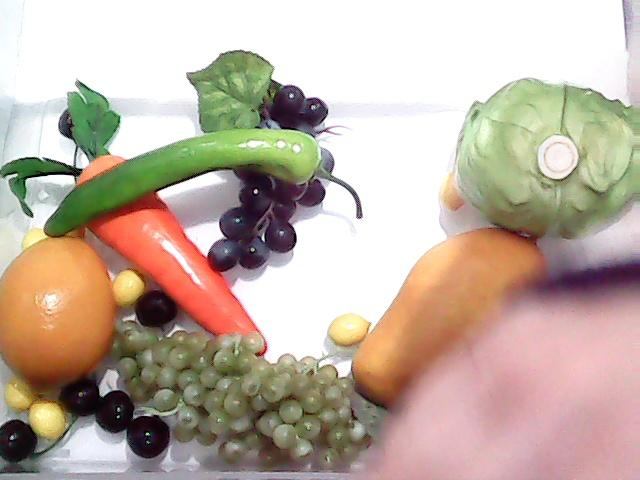cabbage: (448, 74, 640, 238)
carrot: (0, 77, 270, 355)
grape: (106, 329, 377, 472), (187, 47, 336, 273)
lemon: (0, 237, 116, 391)
mango: (350, 230, 548, 413)
pepper: (39, 112, 369, 248)
